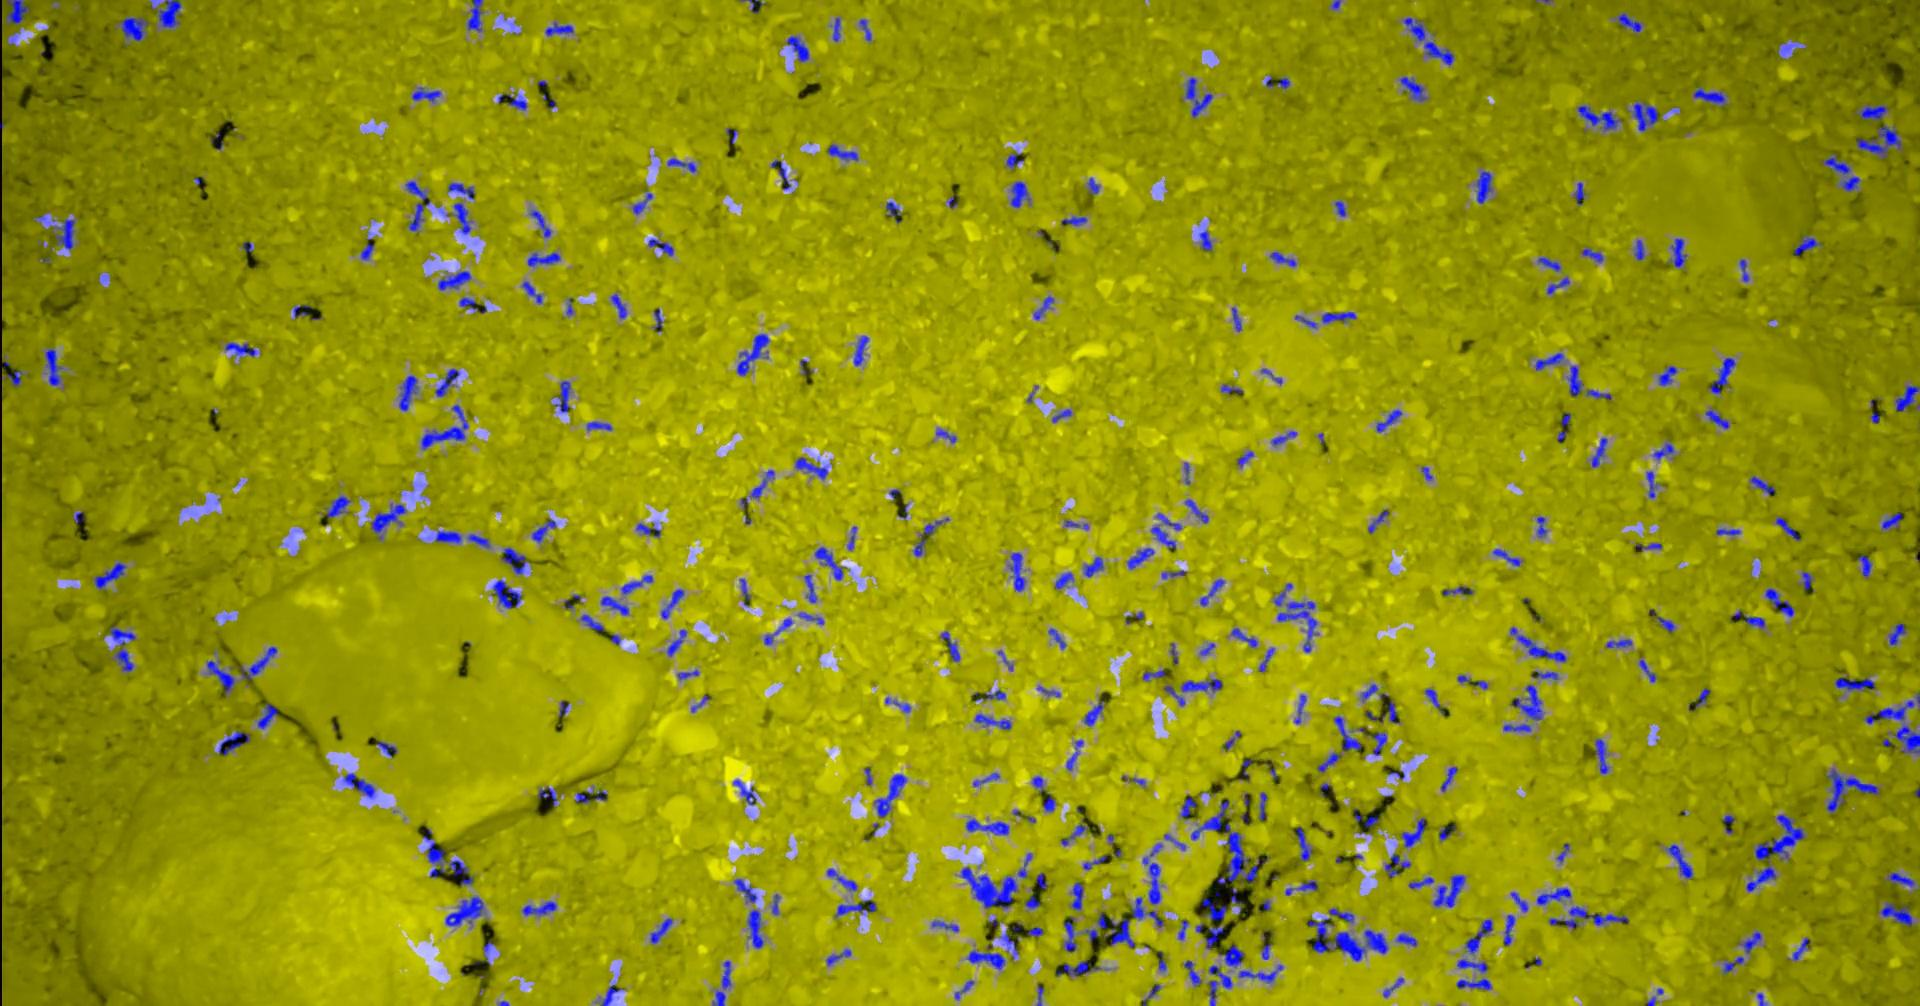ant: (960, 866, 1016, 908), (1403, 17, 1453, 64), (422, 827, 467, 876), (1826, 768, 1878, 812), (420, 404, 467, 448), (1277, 601, 1316, 652), (1509, 626, 1564, 661), (1548, 906, 1628, 929), (1864, 692, 1919, 723), (1855, 124, 1902, 159), (872, 774, 905, 817), (1822, 152, 1859, 191), (1096, 911, 1134, 948), (737, 333, 770, 375), (371, 503, 405, 539), (240, 647, 277, 680), (405, 180, 429, 230), (109, 625, 135, 671), (1511, 683, 1542, 720), (444, 895, 483, 925), (1576, 105, 1622, 130), (1432, 874, 1465, 907), (1185, 77, 1211, 117), (814, 546, 844, 579), (1708, 357, 1735, 392), (1131, 897, 1162, 927), (206, 661, 234, 694), (1333, 716, 1361, 749), (1208, 965, 1230, 1005), (1142, 856, 1161, 903), (1628, 102, 1658, 131), (94, 561, 126, 589), (1665, 843, 1691, 876), (1465, 920, 1492, 953), (491, 579, 521, 608), (444, 202, 471, 234), (1238, 964, 1283, 983), (1764, 588, 1793, 616), (712, 960, 730, 1005), (343, 772, 375, 796), (1879, 902, 1912, 925), (968, 949, 1004, 969), (763, 619, 792, 644), (1399, 818, 1425, 847), (1365, 700, 1399, 721), (218, 730, 249, 754), (794, 457, 827, 479), (965, 818, 1008, 835), (1060, 818, 1087, 845), (1895, 724, 1919, 753), (660, 588, 683, 619), (825, 868, 856, 890), (834, 899, 876, 916), (156, 0, 182, 27), (1399, 76, 1426, 102), (397, 375, 417, 410), (1199, 578, 1224, 605), (1055, 960, 1100, 976), (434, 368, 458, 396), (1693, 85, 1726, 105), (119, 17, 149, 39), (750, 469, 773, 498), (44, 348, 62, 385), (620, 574, 651, 594), (1895, 385, 1919, 412), (502, 547, 526, 574), (437, 271, 470, 290), (747, 909, 763, 948), (55, 218, 75, 249), (1730, 610, 1764, 627), (733, 779, 756, 805), (974, 713, 1011, 729), (770, 160, 790, 189), (1537, 887, 1570, 904), (1183, 499, 1208, 523), (1375, 409, 1401, 432), (1775, 517, 1801, 540), (531, 520, 556, 542), (1010, 553, 1025, 591), (1384, 854, 1410, 876), (1201, 897, 1227, 920), (1793, 234, 1820, 255), (530, 210, 550, 238), (552, 380, 570, 412), (940, 631, 959, 661), (5, 0, 28, 24), (1150, 525, 1175, 547), (786, 36, 808, 61), (1010, 180, 1030, 207), (665, 629, 686, 655), (1083, 699, 1103, 725), (1492, 547, 1520, 567), (223, 340, 255, 357), (1567, 365, 1583, 396), (1295, 826, 1310, 860), (325, 495, 349, 517), (734, 878, 756, 902), (650, 918, 672, 942), (1219, 945, 1243, 967), (599, 596, 629, 614), (1128, 547, 1153, 568), (1181, 678, 1222, 691), (1834, 677, 1874, 690), (257, 702, 277, 728), (1230, 627, 1257, 647), (827, 144, 857, 160), (1591, 437, 1608, 467), (1065, 739, 1082, 770), (1535, 352, 1563, 370), (1594, 738, 1608, 774), (521, 901, 556, 915), (1788, 937, 1810, 960), (1750, 475, 1774, 495), (1368, 509, 1388, 533), (1476, 171, 1491, 203), (1285, 880, 1317, 895), (1670, 238, 1686, 267), (1740, 931, 1761, 953), (467, 0, 483, 30), (521, 281, 541, 304), (1032, 296, 1053, 319), (599, 984, 622, 1005), (527, 251, 560, 265), (1617, 11, 1641, 30), (1423, 688, 1443, 713), (1204, 925, 1223, 949), (648, 238, 673, 255), (1063, 916, 1076, 951), (1858, 104, 1887, 119), (853, 335, 869, 365), (447, 182, 474, 198), (1705, 409, 1728, 428), (1317, 752, 1340, 771), (580, 614, 604, 631), (1001, 930, 1018, 954), (411, 86, 439, 102), (665, 158, 696, 171), (458, 297, 486, 312), (1457, 958, 1487, 972), (1440, 766, 1457, 791), (1183, 960, 1200, 986), (1383, 977, 1403, 997), (632, 192, 651, 213), (1272, 583, 1291, 605), (884, 697, 910, 713), (1368, 732, 1385, 754), (610, 293, 626, 318), (924, 517, 949, 533), (825, 949, 850, 965), (1321, 311, 1355, 323), (1457, 978, 1491, 989), (545, 22, 573, 36), (971, 772, 999, 786), (1156, 513, 1181, 528), (1083, 556, 1103, 575), (1164, 685, 1183, 705), (1545, 277, 1568, 293), (1888, 622, 1905, 645), (1269, 251, 1295, 265), (1270, 431, 1297, 445), (973, 688, 1004, 700), (537, 788, 556, 807), (574, 790, 606, 801), (1658, 365, 1676, 385), (1048, 627, 1065, 648), (1142, 984, 1159, 1005), (885, 201, 902, 222), (1881, 512, 1902, 528), (1638, 659, 1655, 681), (1180, 796, 1196, 818), (1722, 956, 1743, 973), (804, 574, 817, 602), (1888, 873, 1914, 887), (1083, 854, 1106, 869), (434, 530, 461, 542), (1510, 892, 1528, 911), (954, 981, 973, 998), (1258, 647, 1272, 671), (1017, 852, 1031, 876), (1328, 908, 1352, 922), (376, 741, 396, 757), (1294, 694, 1305, 723), (1581, 246, 1603, 262), (1537, 257, 1559, 271), (1070, 882, 1082, 909), (1656, 615, 1674, 633), (1054, 572, 1073, 588), (1652, 443, 1672, 459), (1503, 915, 1514, 945), (739, 0, 763, 13), (636, 523, 660, 536), (931, 920, 957, 931), (467, 533, 489, 547), (1857, 554, 1870, 575), (1360, 683, 1377, 701), (1694, 688, 1710, 706), (913, 533, 926, 556), (797, 612, 823, 624), (935, 428, 955, 442), (1265, 76, 1289, 88), (1408, 876, 1432, 888), (1230, 887, 1242, 911), (361, 238, 373, 259), (1294, 314, 1316, 326), (1237, 450, 1253, 466), (1646, 471, 1656, 498), (739, 578, 749, 605), (1443, 586, 1473, 594), (1023, 890, 1039, 908), (1051, 408, 1070, 422), (858, 19, 871, 39), (1199, 230, 1211, 250), (1586, 389, 1611, 399), (585, 420, 611, 431), (1531, 669, 1557, 680), (1238, 760, 1251, 780), (6, 370, 22, 386), (508, 95, 526, 109), (1006, 152, 1023, 166), (1437, 826, 1455, 840), (1230, 307, 1241, 332), (1258, 793, 1267, 819), (1142, 669, 1164, 680), (1396, 934, 1416, 945), (1261, 934, 1270, 959), (1634, 239, 1644, 260), (1738, 259, 1749, 281), (677, 669, 698, 680), (832, 17, 841, 41), (1062, 216, 1086, 225), (653, 307, 662, 332), (293, 304, 309, 318), (1035, 873, 1048, 889), (1087, 177, 1098, 194), (1575, 182, 1583, 205), (1064, 520, 1087, 528), (1043, 793, 1054, 810), (1605, 639, 1630, 647), (1178, 920, 1189, 939), (1220, 384, 1242, 392), (771, 893, 780, 915), (1537, 516, 1545, 536), (1801, 572, 1811, 589), (1161, 570, 1183, 578), (1503, 724, 1530, 730), (1157, 951, 1166, 970), (1335, 199, 1345, 216), (1636, 542, 1661, 549), (1364, 815, 1378, 827), (1032, 776, 1043, 791), (1027, 926, 1043, 936), (1716, 528, 1740, 535)
